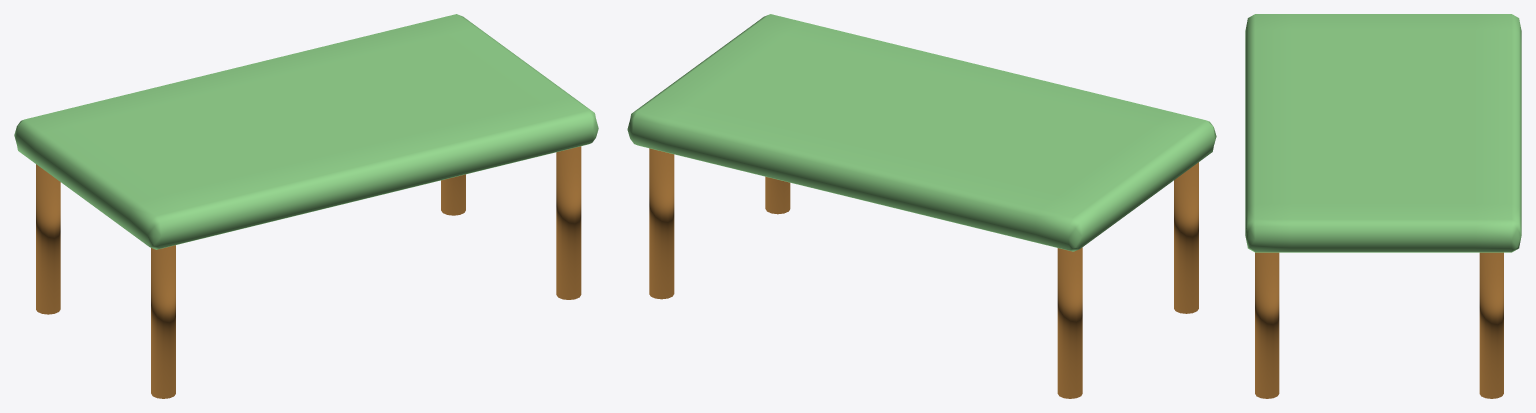
Rendered from Table.fbx.
3 views of the same model, side by side, from view 1: azimuth 30°, elevation 25°; view 2: azimuth 150°, elevation 25°; view 3: azimuth 270°, elevation 25° (orthographic). The views are drawn at different scales.
Parts seen in each view (by area): view 1: Cube_001; view 2: Cube_001; view 3: Cube_001.
Boxes of the visible parts, bbox=[...] form: Cube_001: bbox=[14, 14, 598, 398]; Cube_001: bbox=[627, 14, 1216, 398]; Cube_001: bbox=[1245, 14, 1521, 398].
Bounding box in the file's own units: 3.66 × 1.45 × 2.
